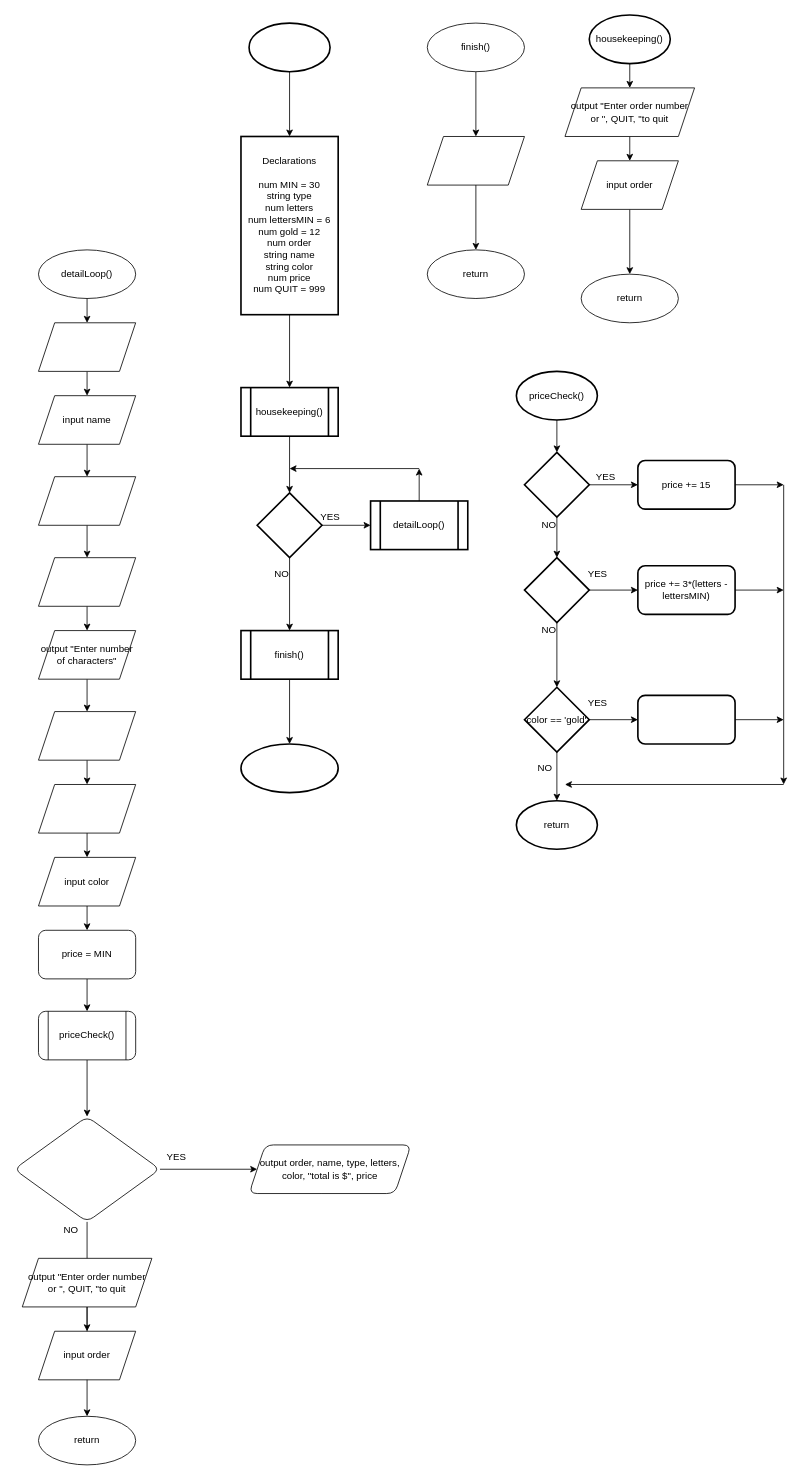
Some shapes in this 804 by 1479 pixel diagram are drawn without their labels. Here are the shapes that lost their labels. From the top down, the centre of each, then its label:
point 289,47: start
point 475,160: output "End of program"
point 87,346: output "Enter name"
point 87,500: output "Enter wood type"
point 556,484: type == 'oak'
point 289,525: order <> QUIT
point 87,581: input type
point 556,589: letters > lettersMIN
point 87,735: input letters
point 686,719: price += gold
point 289,768: stop
point 87,808: output "Enter color of characters"
point 86,1169: type == 'oak' AND letters == 5 AND color == 'white'
